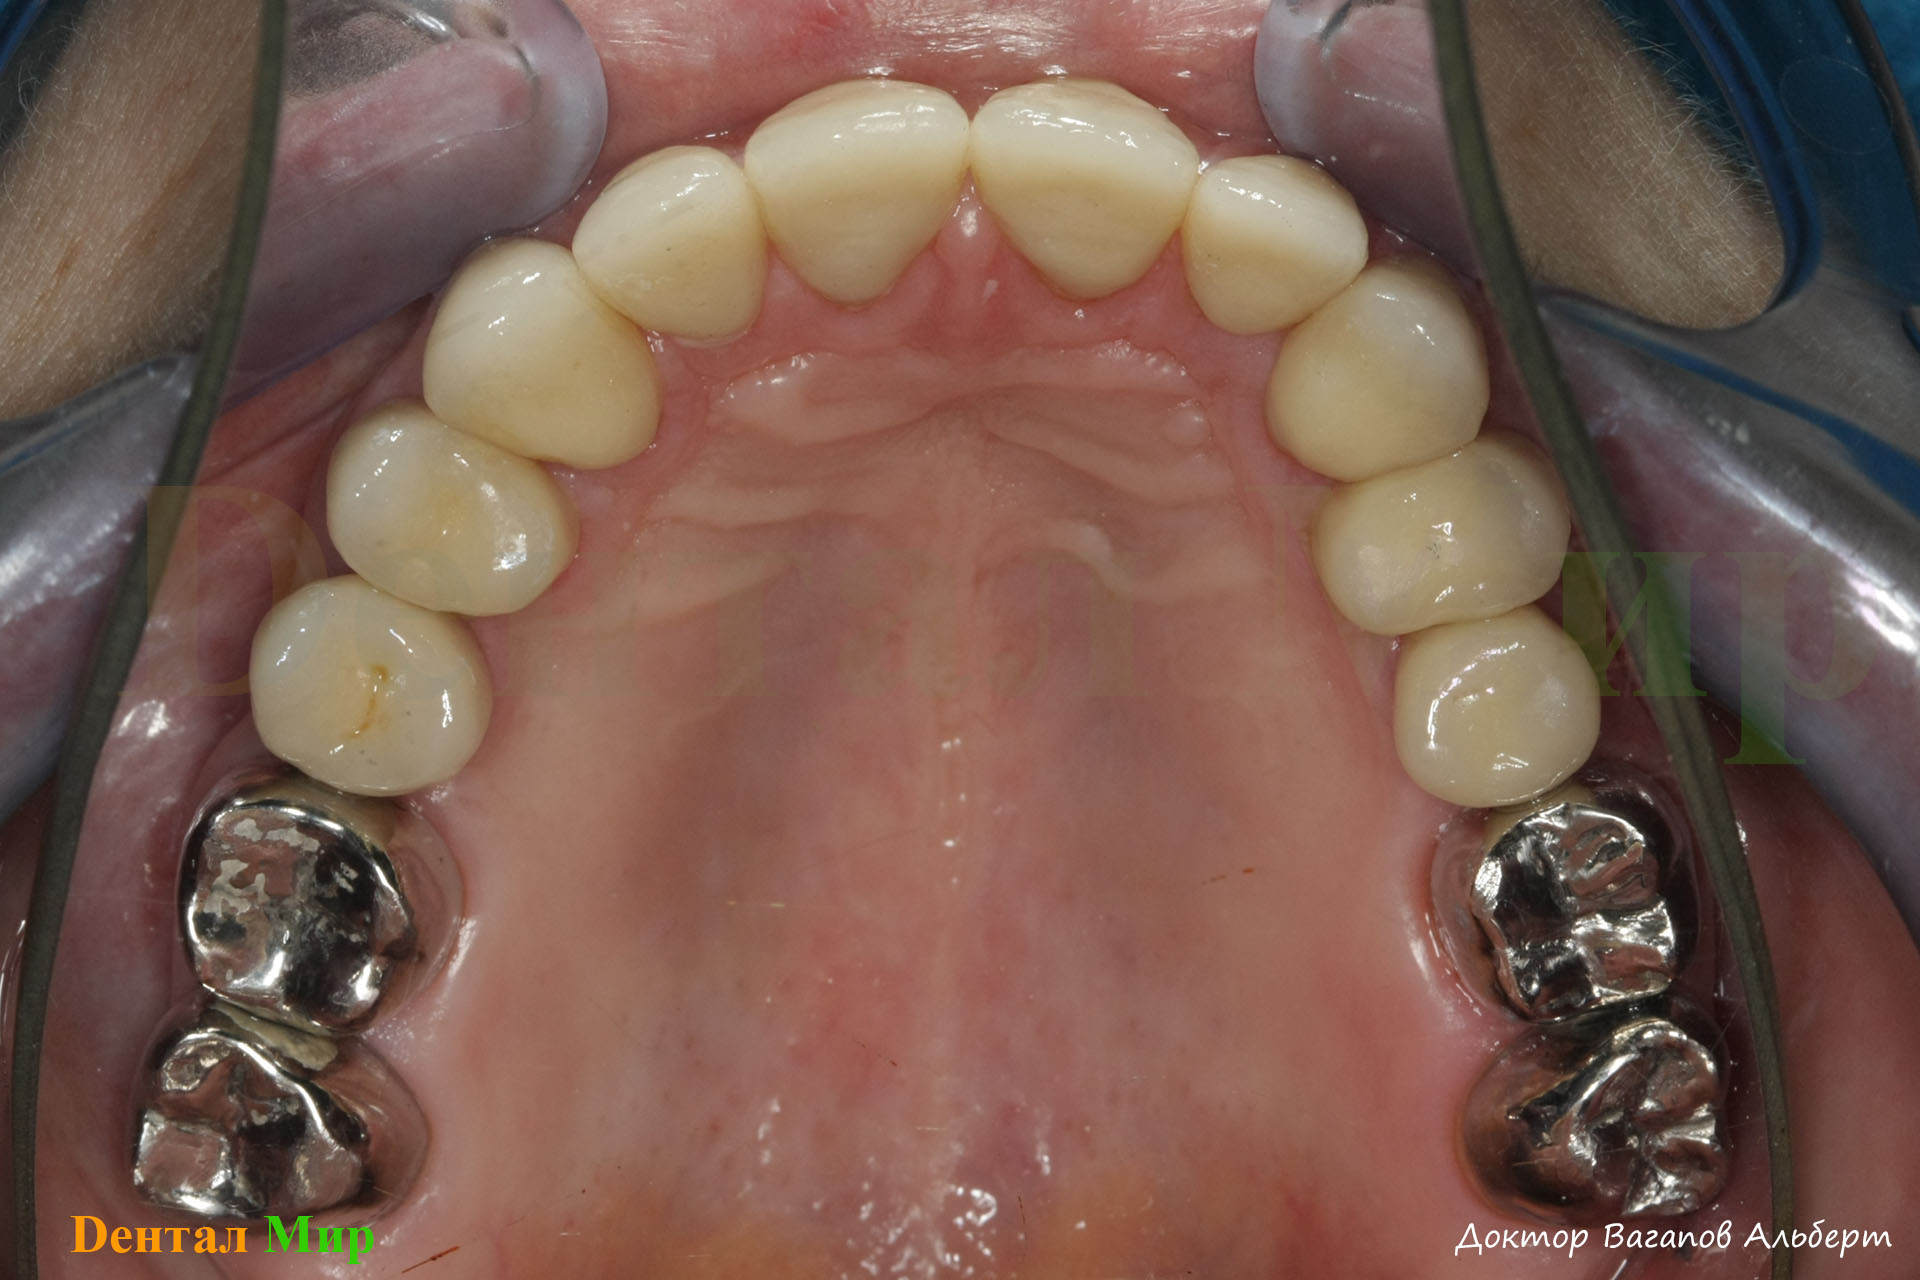UL1BC_healthy: (1314, 447, 1559, 634)
UL1M_decay: (1457, 793, 1689, 1016)
UL2BC_healthy: (1396, 629, 1597, 809)
UL2M_decay: (1489, 1013, 1731, 1219)
ULCI_healthy: (970, 79, 1189, 294)
ULC_healthy: (1271, 267, 1483, 476)
ULLI_healthy: (1187, 154, 1367, 334)
UR1BC_healthy: (329, 421, 569, 614)
UR1M_decay: (183, 787, 451, 1033)
UR2BC_healthy: (261, 596, 489, 796)
UR2M_decay: (131, 1027, 403, 1211)
URCI_healthy: (746, 83, 970, 300)
URC_healthy: (426, 246, 657, 469)
URLI_healthy: (570, 141, 761, 339)
